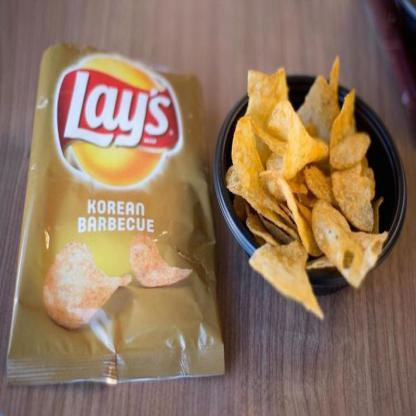potatochip: (4, 34, 230, 392)
